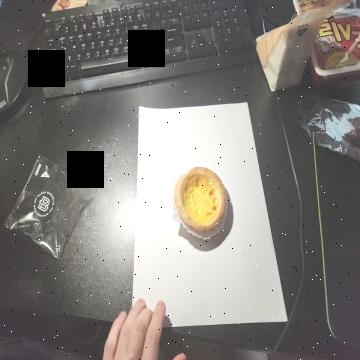EggTart: (175, 167, 227, 233)
